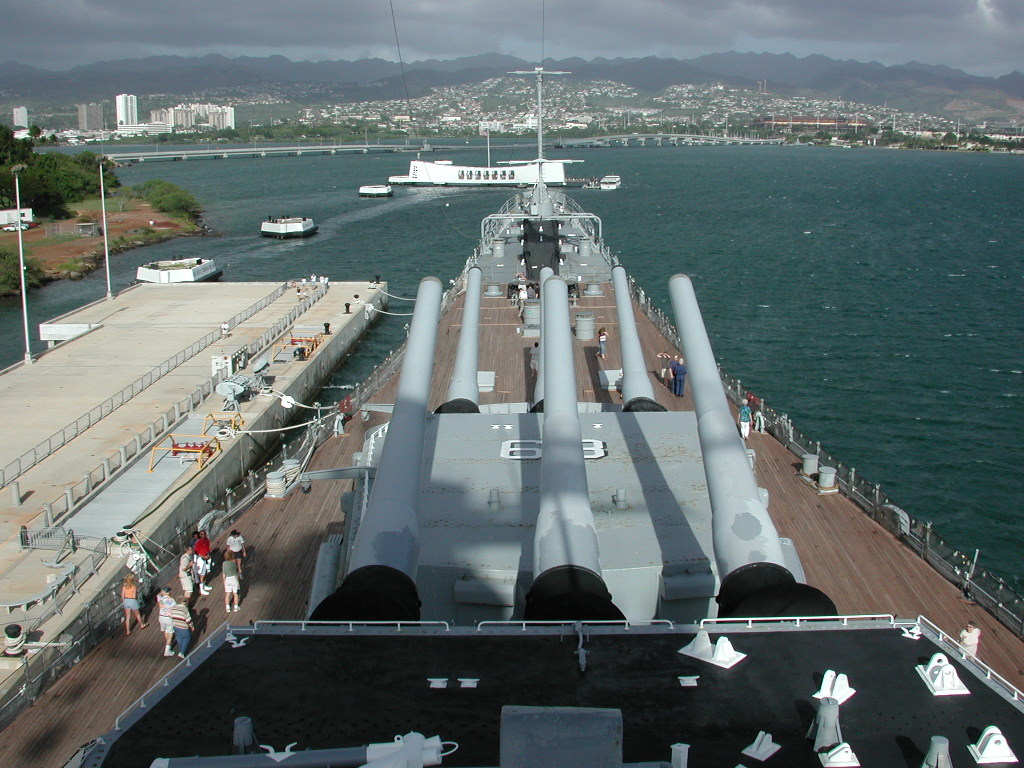boat: (24, 157, 1024, 765)
